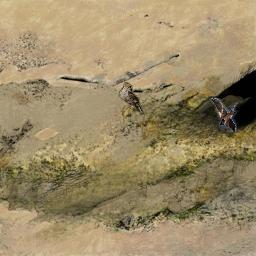Sparrow: (118, 82, 144, 115)
Swallow: (211, 98, 240, 132)
